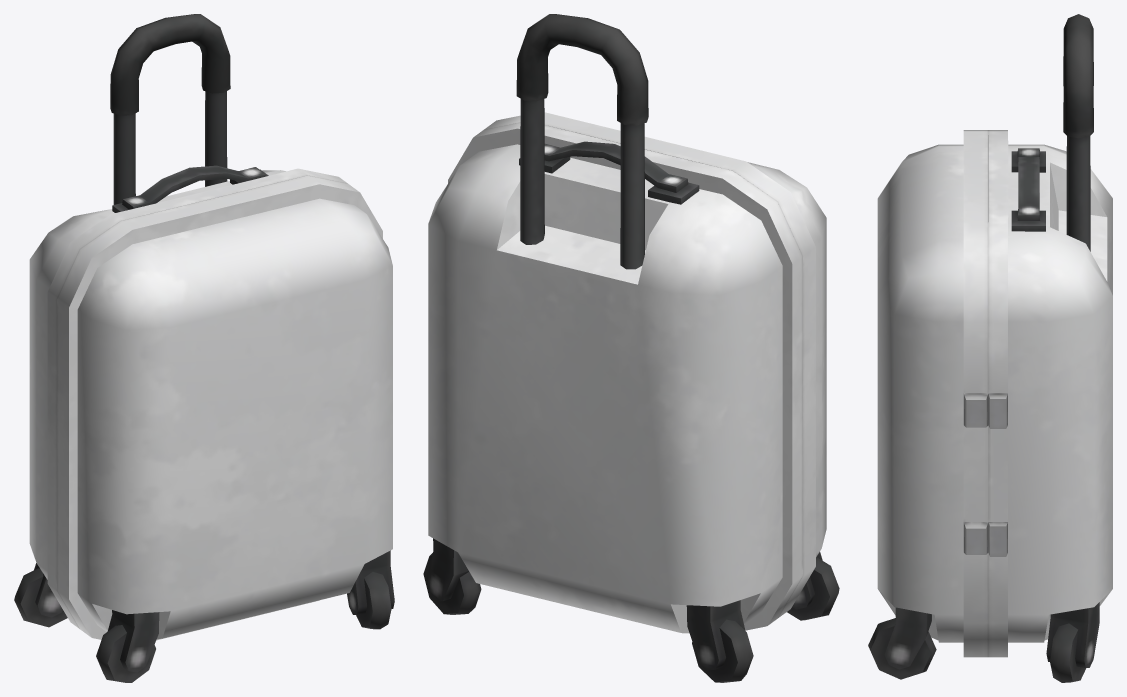
The model's file is Prfb_Suitcase.fbx.
The picture shows the model from 3 angles, left to right: view 1: azimuth 30°, elevation 25°; view 2: azimuth 150°, elevation 25°; view 3: azimuth 270°, elevation 25°; orthographic projection. The views are drawn at different scales.
Visible parts, largest first — view 1: Mat_Suitcase_2; view 2: Mat_Suitcase_2; view 3: Mat_Suitcase_2.
Boxes of the visible parts, x1,y1,x2,y2 form: Mat_Suitcase_2: (14, 14, 394, 682); Mat_Suitcase_2: (423, 14, 839, 682); Mat_Suitcase_2: (868, 14, 1112, 682).
Bounding box in the file's own units: 0.6543 × 1.12 × 0.4161.
Materials: 1 (1 with a texture image).
